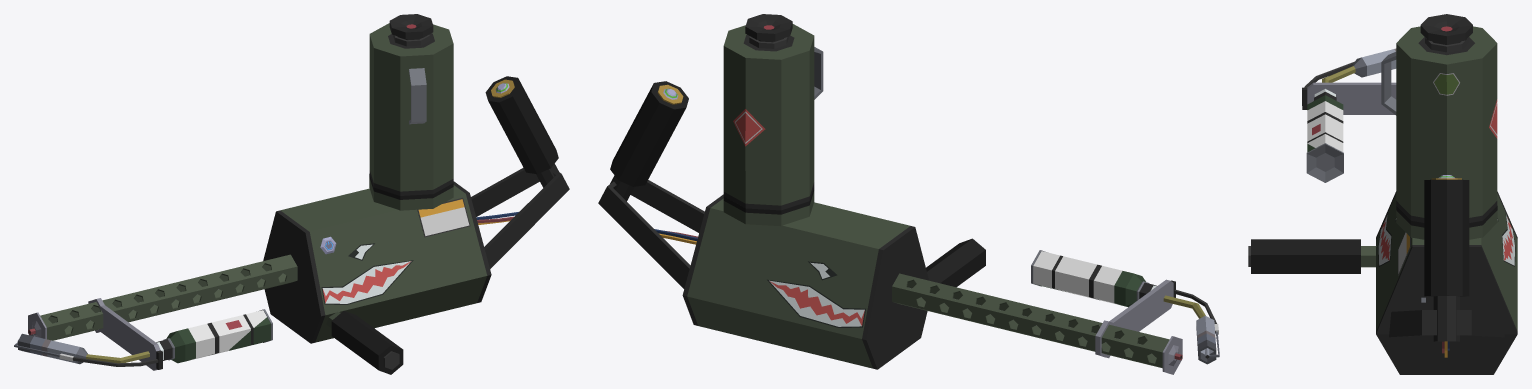
File: flamethrower.fbx
3 renders of one model, left to right at view 1: azimuth 30°, elevation 25°; view 2: azimuth 150°, elevation 25°; view 3: azimuth 270°, elevation 25°, orthographic. The views are drawn at different scales.
Visible parts, largest first — view 1: flamethrower; view 2: flamethrower; view 3: flamethrower.
Part boxes in pixels (bbox=[...]): flamethrower: bbox=[14, 14, 569, 374]; flamethrower: bbox=[598, 14, 1219, 374]; flamethrower: bbox=[1248, 14, 1517, 374].
Bounding box in the file's own units: 72.41 × 34.08 × 25.88.
Materials: 1 (1 with a texture image).
